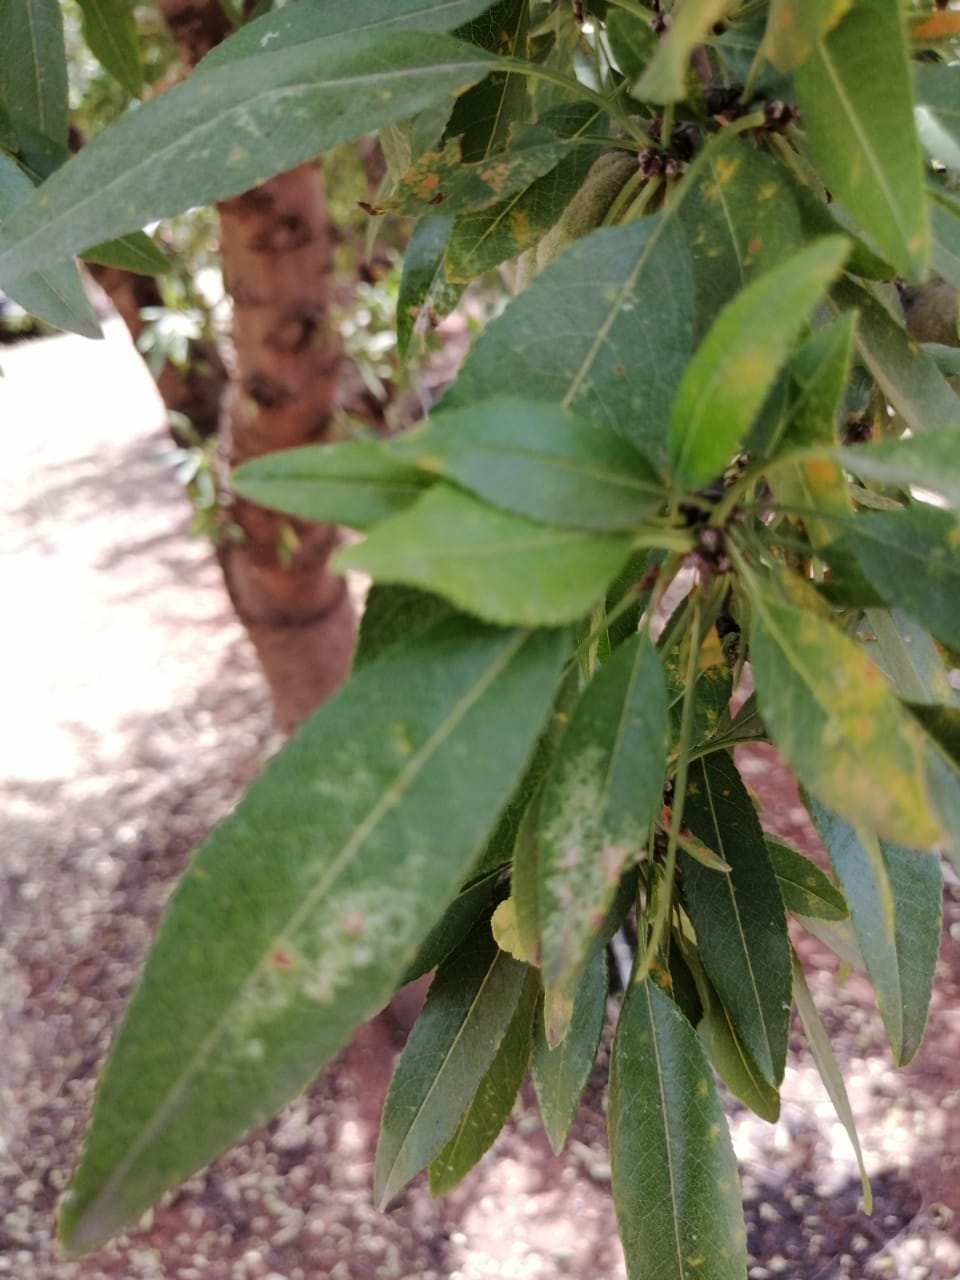faux tigre: (55, 608, 578, 1263), (529, 631, 665, 1052)
